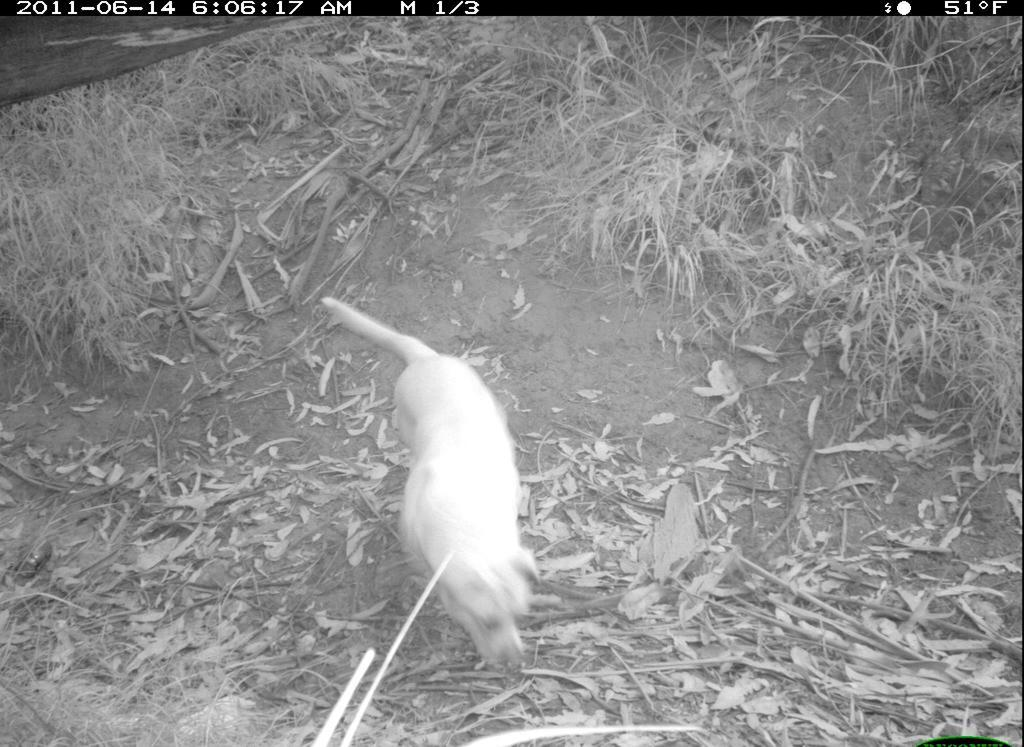dog: (301, 269, 565, 690)
